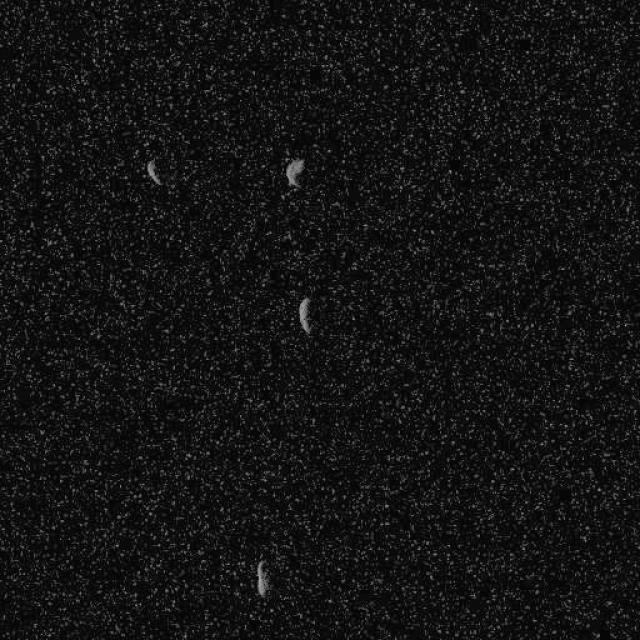D2: (296, 295, 314, 334), (284, 156, 305, 188), (255, 558, 270, 598), (145, 158, 163, 186)
